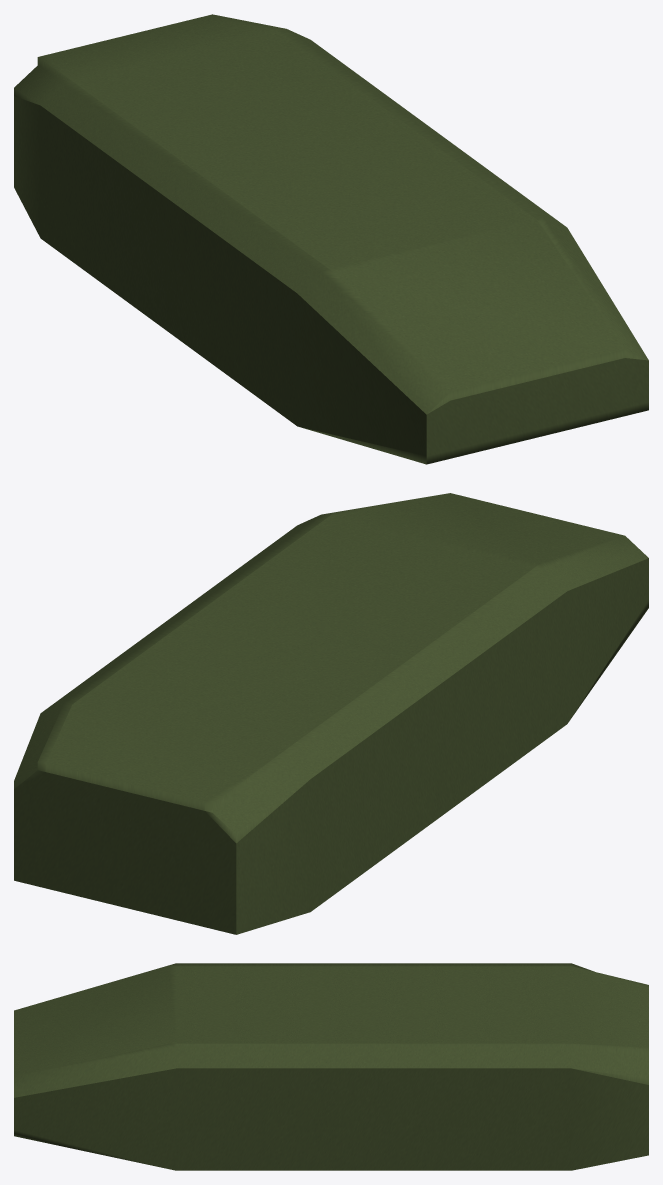
The picture shows the model from 3 angles, top to bottom: view 1: azimuth 30°, elevation 25°; view 2: azimuth 150°, elevation 25°; view 3: azimuth 270°, elevation 25°; orthographic projection. The views are drawn at different scales.
Bounding box in the file's own units: 2.72 × 1.44 × 7.2.
Materials: 1 (1 with a texture image).
